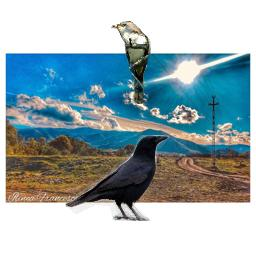Crow: (65, 135, 169, 221)
Cuckoo: (111, 21, 151, 104)
